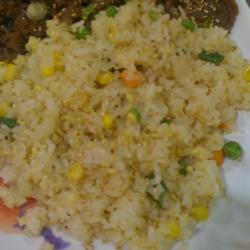rice: (28, 48, 191, 204)
